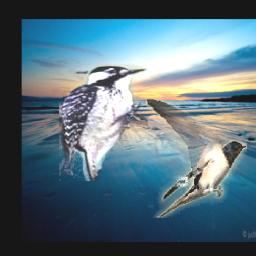Swallow: (147, 99, 248, 219)
Woodpecker: (59, 64, 148, 182)
